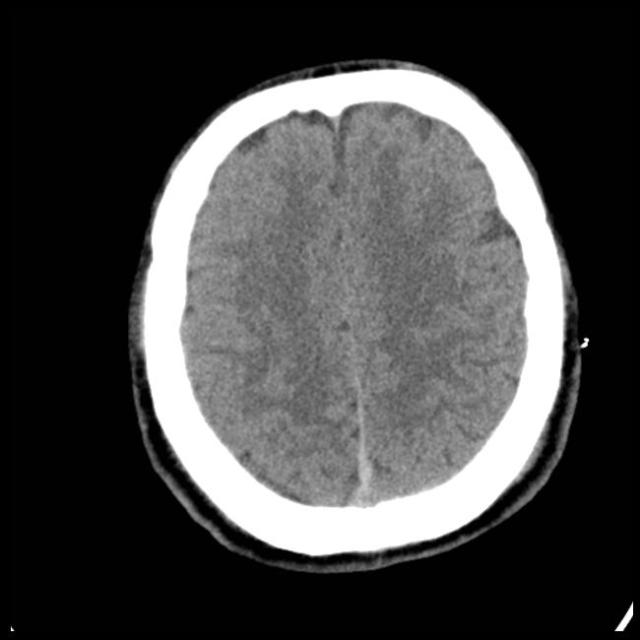lesion: (127, 58, 586, 572)
